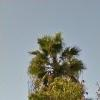Tree: (29, 28, 84, 100)
